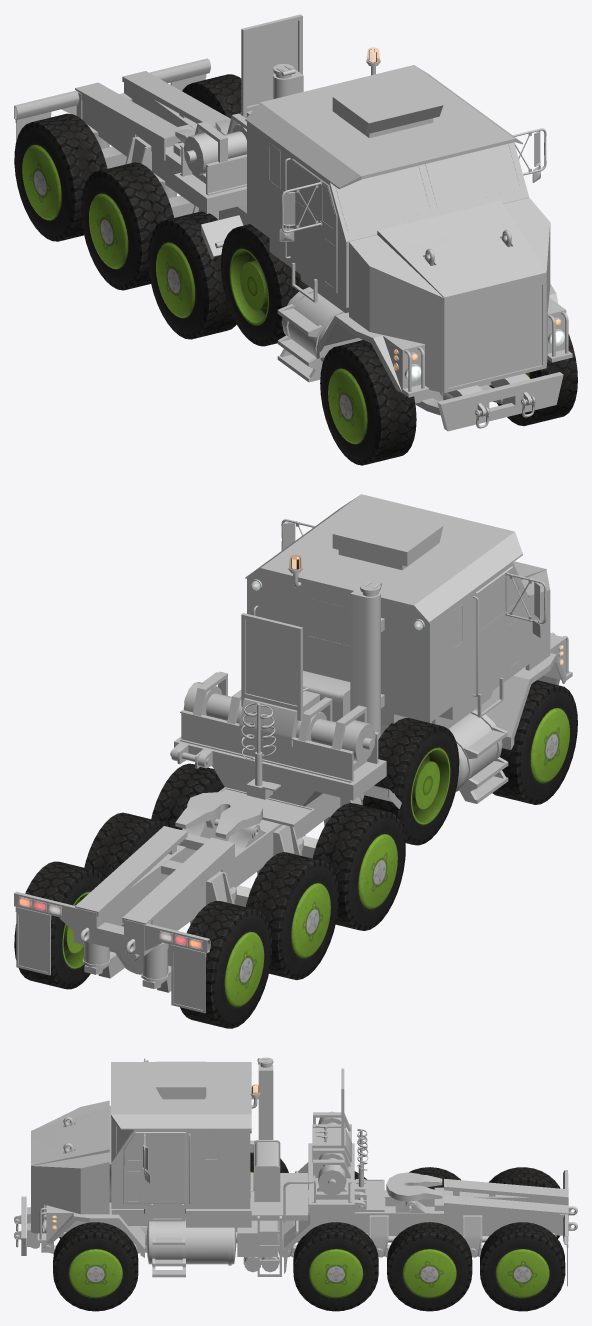
3 renders of one model, top to bottom at view 1: azimuth 30°, elevation 25°; view 2: azimuth 150°, elevation 25°; view 3: azimuth 270°, elevation 25°, orthographic. The views are drawn at different scales.
Parts seen in each view (by area): view 1: Het, Wheel.004, Wheel.007, Wheel.008, Wheel.005, Wheel.006, Wheel, Wheel.003; view 2: Het, Wheel.005, Wheel.007, Wheel.006, Wheel.008, Wheel.004, Wheel.003, Wheel.002, Wheel.001; view 3: Het, Wheel.002, Wheel, Wheel.003, Wheel.001, Wheel.008, Wheel.007.
Boxes of the visible parts, <box> form: Het: <box>14,14,572,431</box>; Wheel.004: <box>320,340,416,465</box>; Wheel.007: <box>81,162,173,290</box>; Wheel.008: <box>14,113,107,241</box>; Wheel.005: <box>148,211,236,339</box>; Wheel.006: <box>221,224,308,346</box>; Wheel: <box>489,334,577,426</box>; Wheel.003: <box>182,74,241,118</box>; Het: <box>14,494,572,1013</box>; Wheel.005: <box>312,803,405,930</box>; Wheel.007: <box>246,852,338,979</box>; Wheel.006: <box>363,718,459,845</box>; Wheel.008: <box>180,901,271,1028</box>; Wheel.004: <box>492,680,577,804</box>; Wheel.003: <box>14,861,104,989</box>; Wheel.002: <box>84,812,168,878</box>; Wheel.001: <box>151,763,224,829</box>; Het: <box>14,1057,577,1286</box>; Wheel.002: <box>387,1222,472,1311</box>; Wheel: <box>53,1222,138,1311</box>; Wheel.003: <box>480,1222,565,1311</box>; Wheel.001: <box>293,1222,378,1311</box>; Wheel.008: <box>489,1167,560,1238</box>; Wheel.007: <box>409,1167,460,1189</box>.
Bounding box in the file's own units: 3.64 × 3.87 × 9.62.
